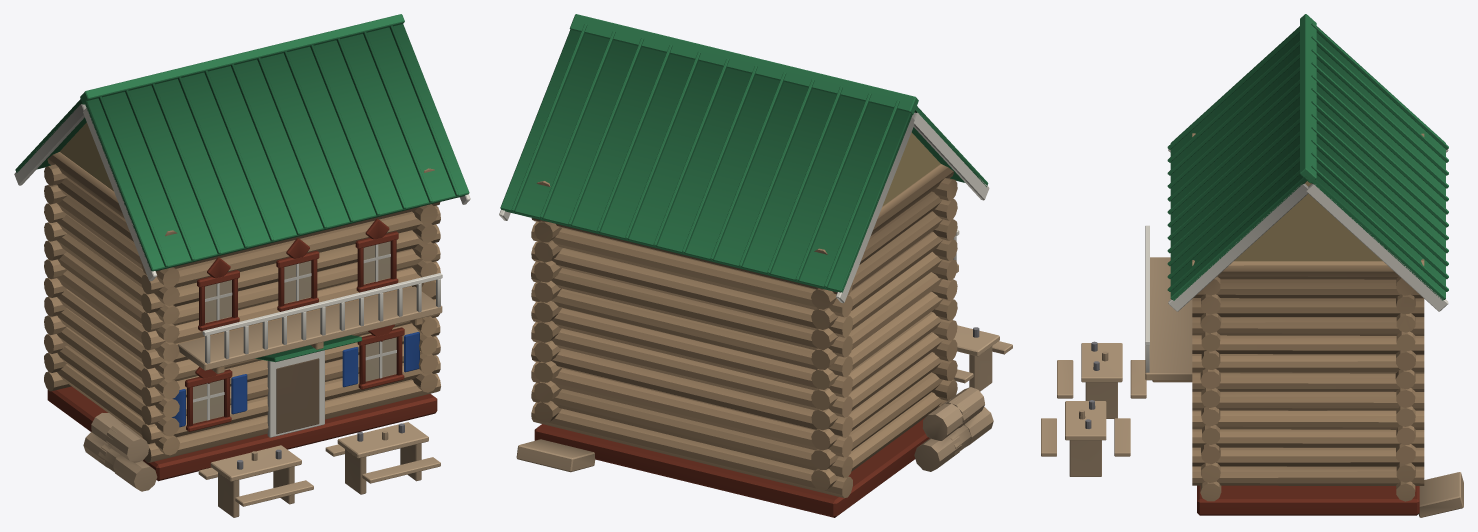
Rendered from bld_traktir_e2.glb.
The picture shows the model from 3 angles, left to right: view 1: azimuth 30°, elevation 25°; view 2: azimuth 150°, elevation 25°; view 3: azimuth 270°, elevation 25°; orthographic projection. The views are drawn at different scales.
Parts seen in each view (by area): view 1: traktir; view 2: traktir; view 3: traktir.
Boxes of the visible parts, bbox=[...] form: traktir: bbox=[14, 14, 470, 517]; traktir: bbox=[499, 14, 1012, 517]; traktir: bbox=[1041, 14, 1463, 517].
Bounding box in the file's own units: 1.66 × 1.74 × 1.84.
